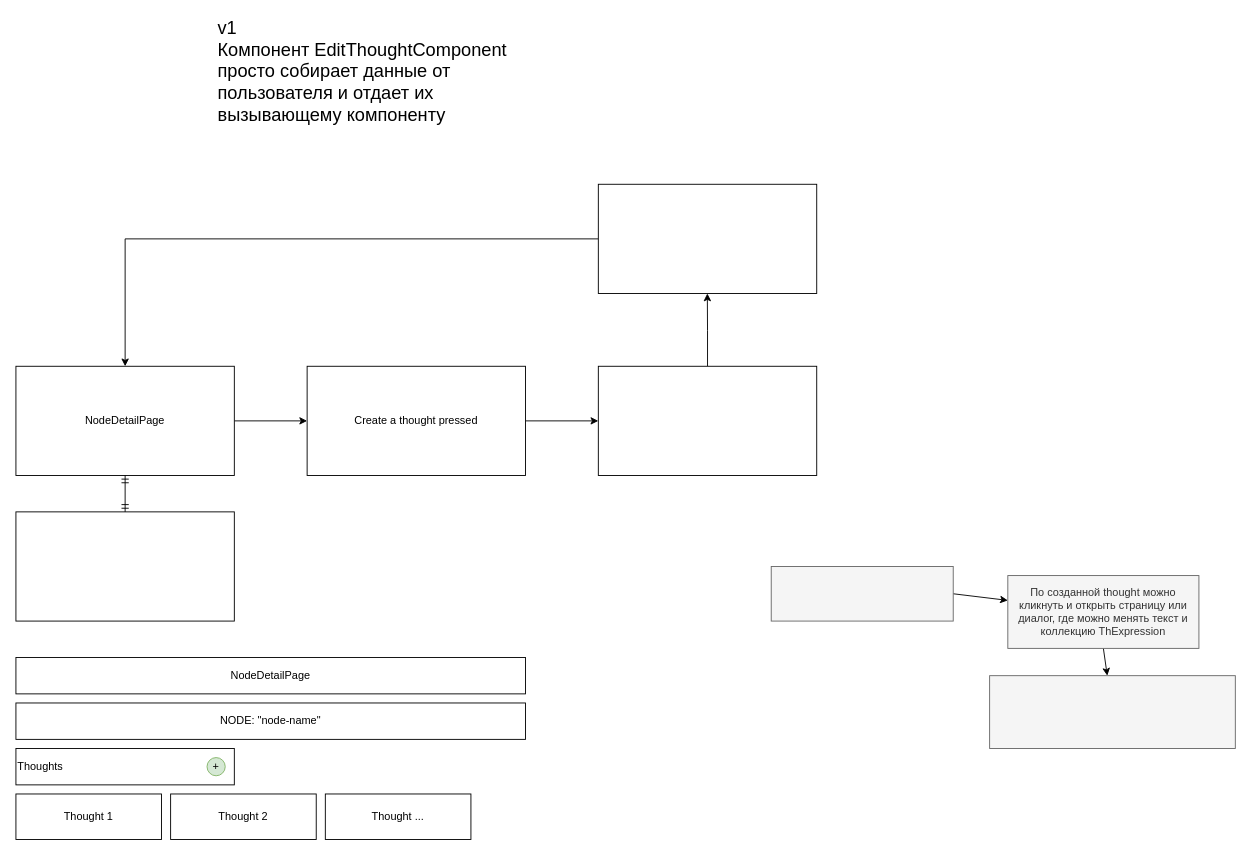
This 1251x855 diagram has some shape labels left out. Here are the shapes that lost their labels. From the top down, the box of each, then its label:
(597, 183, 817, 293): Thought is created
(597, 365, 817, 475): Create a thought component
(15, 511, 234, 621): NodeDetail data object
(770, 566, 953, 621): По нажатию "+" создать thought с получением текста от пользователя
(989, 675, 1235, 748): Находясь на компоненте thought можно в его контексте работать с th-expression
